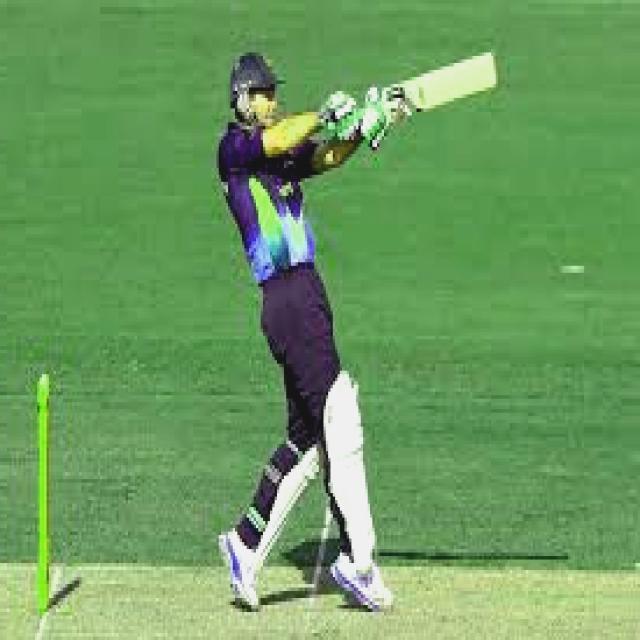toe: (489, 50, 500, 90)
